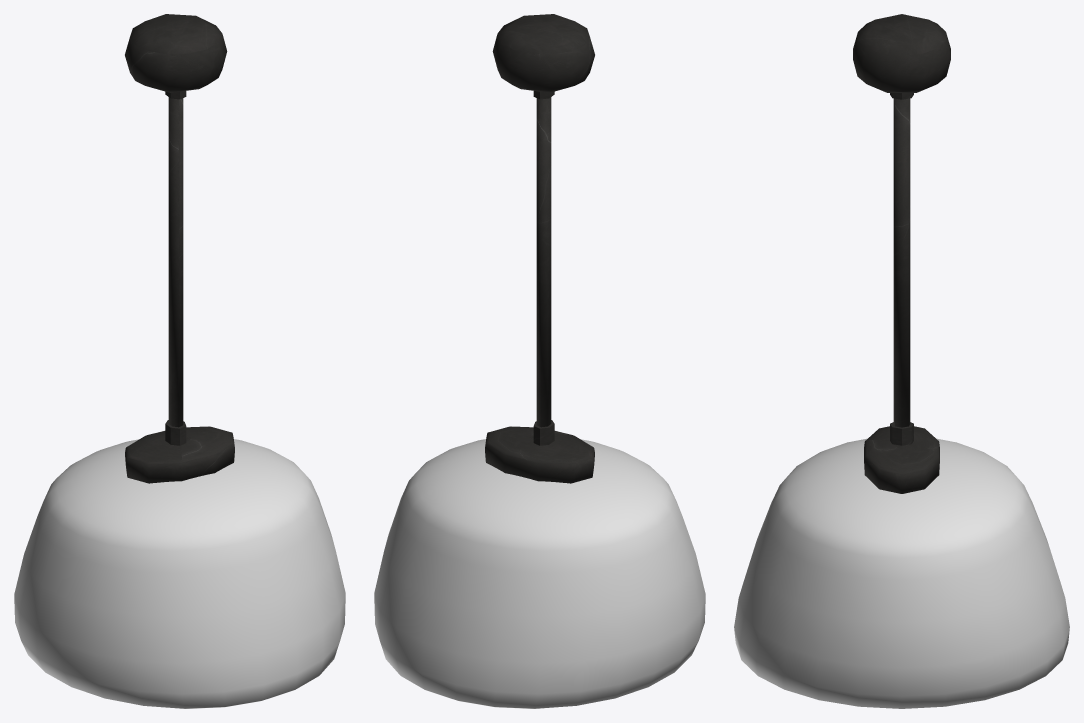
Rendered from LamparaTecho.fbx.
3 views of the same model, side by side, from view 1: azimuth 30°, elevation 25°; view 2: azimuth 150°, elevation 25°; view 3: azimuth 270°, elevation 25° (orthographic).
Parts seen in each view (by area): view 1: Cylinder.003; view 2: Cylinder.003; view 3: Cylinder.003.
Part boxes in pixels (x1,y1,x2,y2): Cylinder.003: (14, 14, 345, 708); Cylinder.003: (374, 14, 705, 708); Cylinder.003: (734, 14, 1069, 708).
Size of the model in its own units: 136 by 279 by 138.
